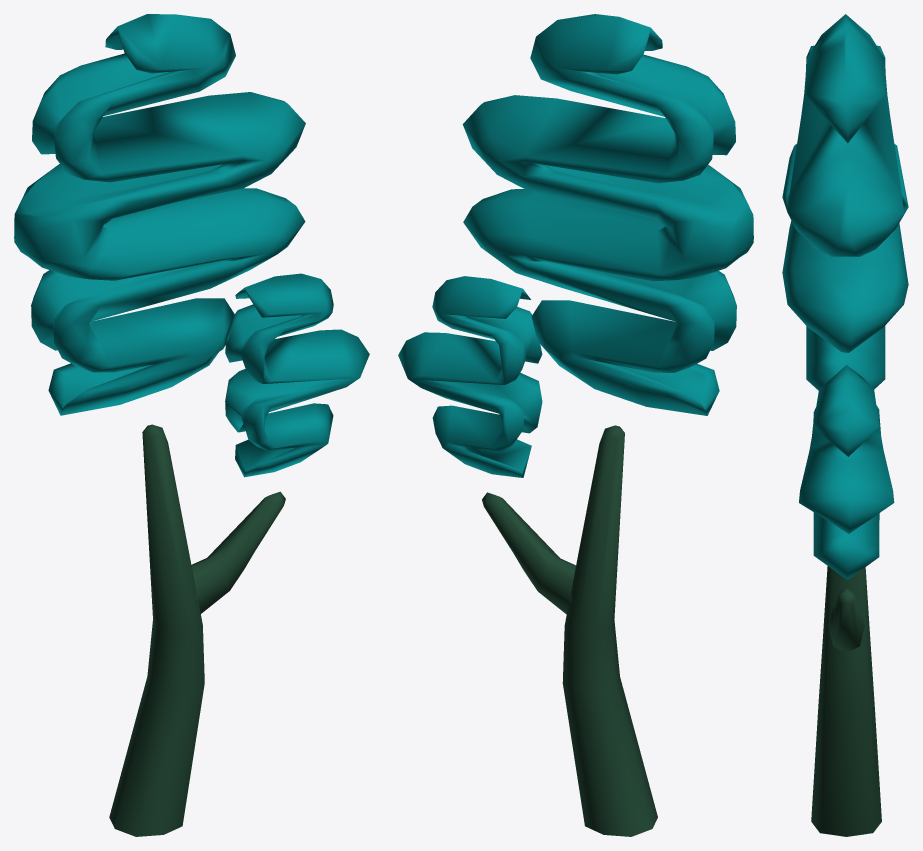
The model's file is tree-floating-2.glb.
3 views of the same model, side by side, from view 1: azimuth 30°, elevation 25°; view 2: azimuth 150°, elevation 25°; view 3: azimuth 270°, elevation 25° (orthographic).
Visible parts, largest first — view 1: Tree_Floating_2; view 2: Tree_Floating_2; view 3: Tree_Floating_2.
Boxes of the visible parts, bbox=[...] form: Tree_Floating_2: bbox=[14, 14, 369, 836]; Tree_Floating_2: bbox=[398, 14, 753, 836]; Tree_Floating_2: bbox=[782, 14, 908, 836].
Bounding box in the file's own units: 2.61 × 5.86 × 0.8401.
